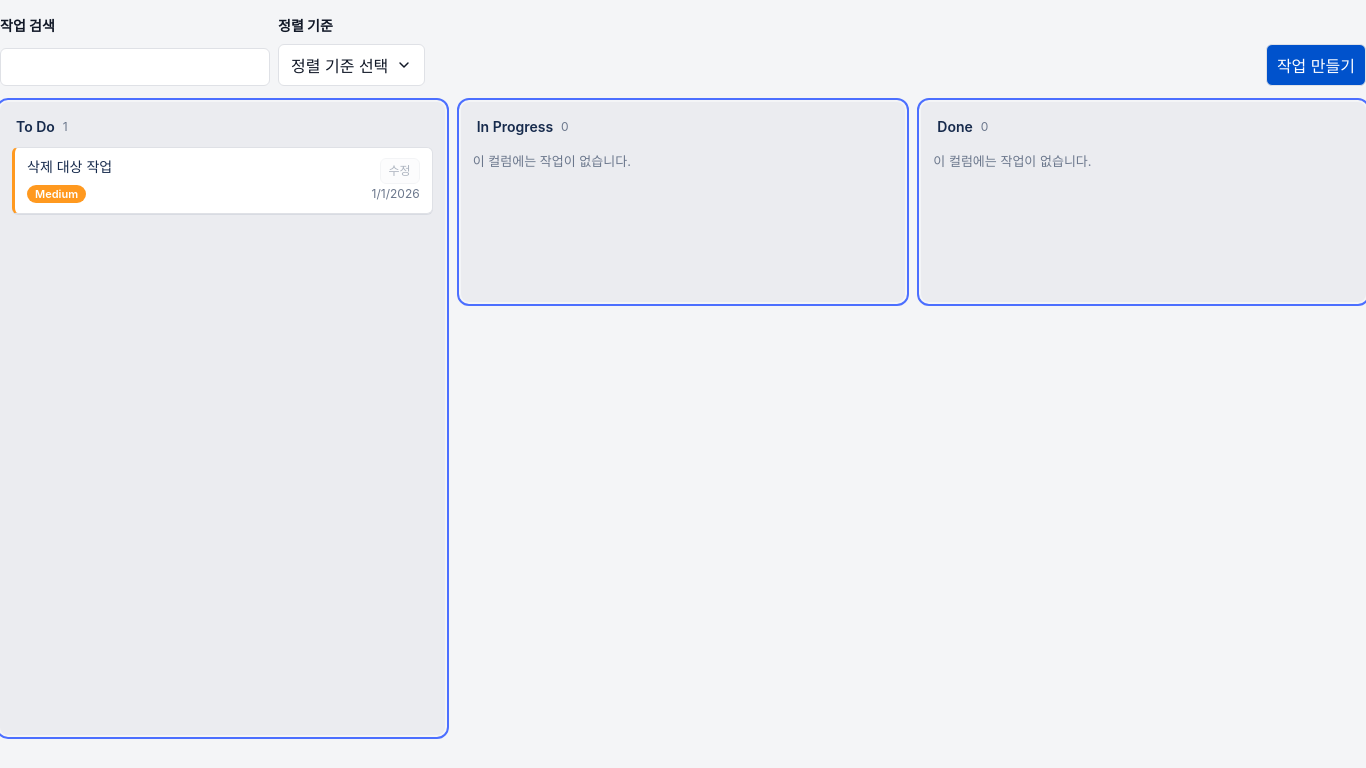
Test: 보드 task form CRUD › 삭제는 확인 후 카드를 즉시 제거하고 실패하면 복원한다
This screenshot has width=1366, height=768.
expect the text "삭제 대상 작업" is shown: met, box [27,158,112,175]
Step 1. Click the button "수정" → (400, 171), box [380,158,420,184]
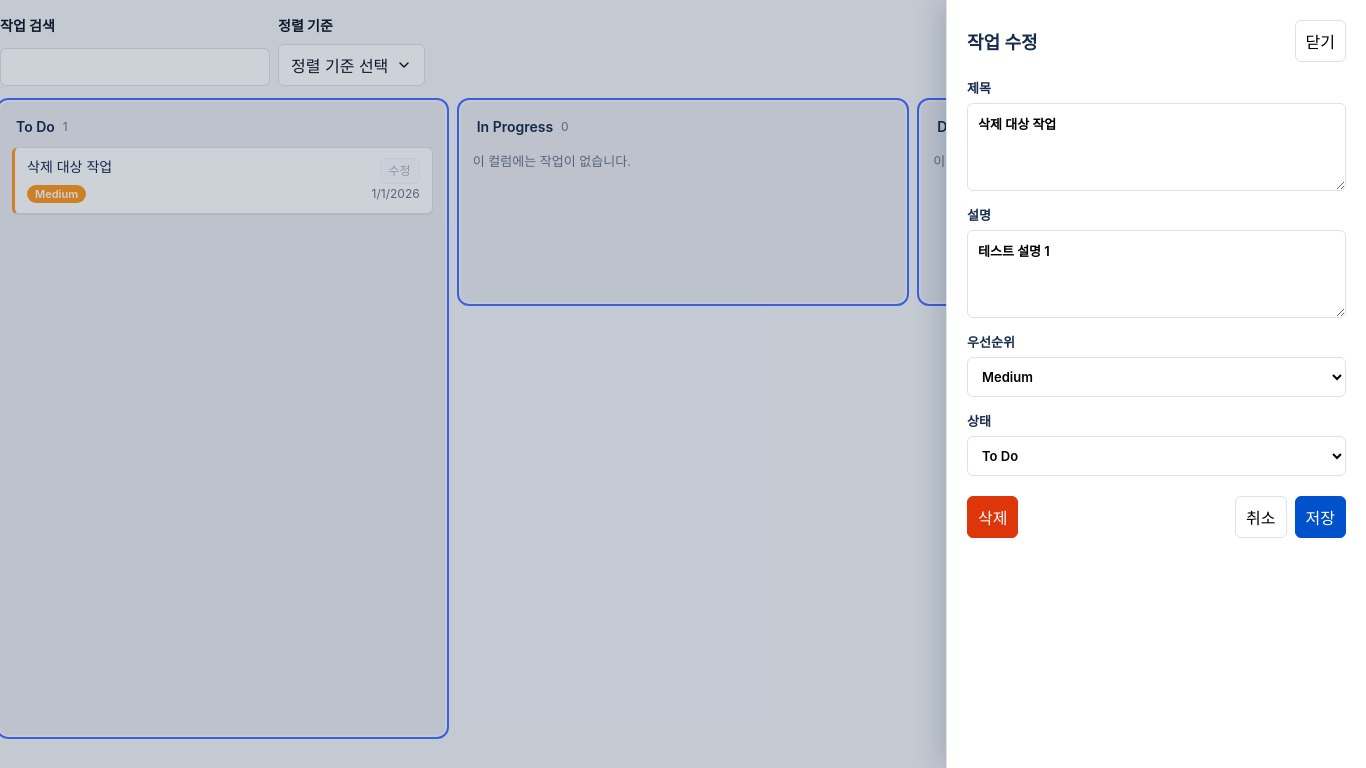
Step 2. Click the button "삭제" → (993, 517), box [967,496,1018,538]
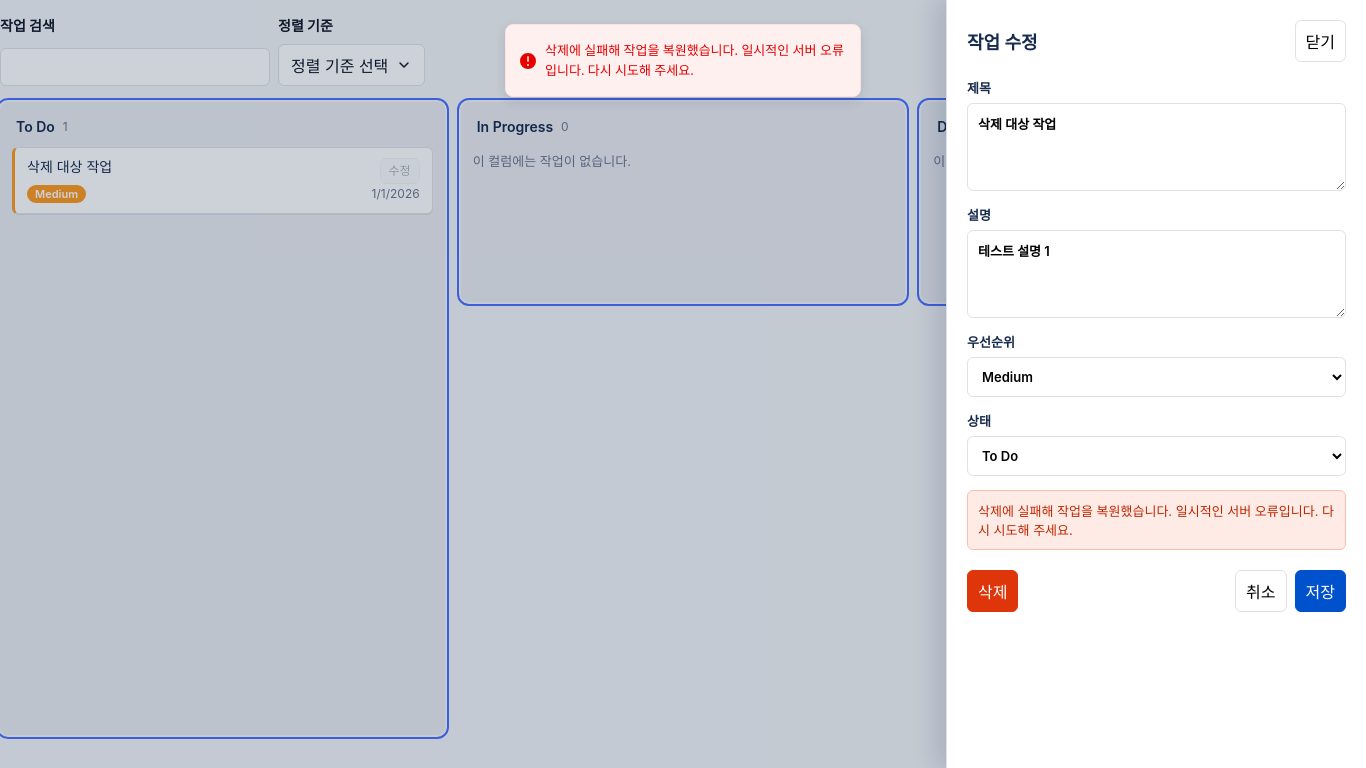
expect the text "삭제 대상 작업" is shown: met, box [27,158,112,175]
expect the message shows "삭제에 실패해 작업을 복원했습니다.": met, box [978,503,1334,538]
